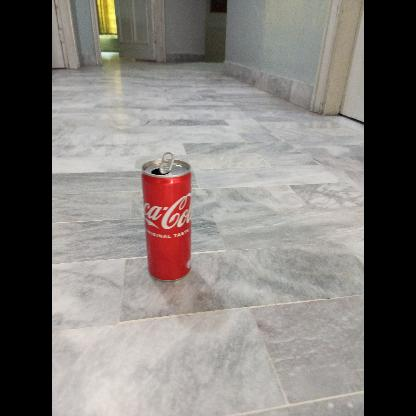Lid_Open: (150, 152, 180, 180)
Tin_Can: (140, 152, 192, 286)
